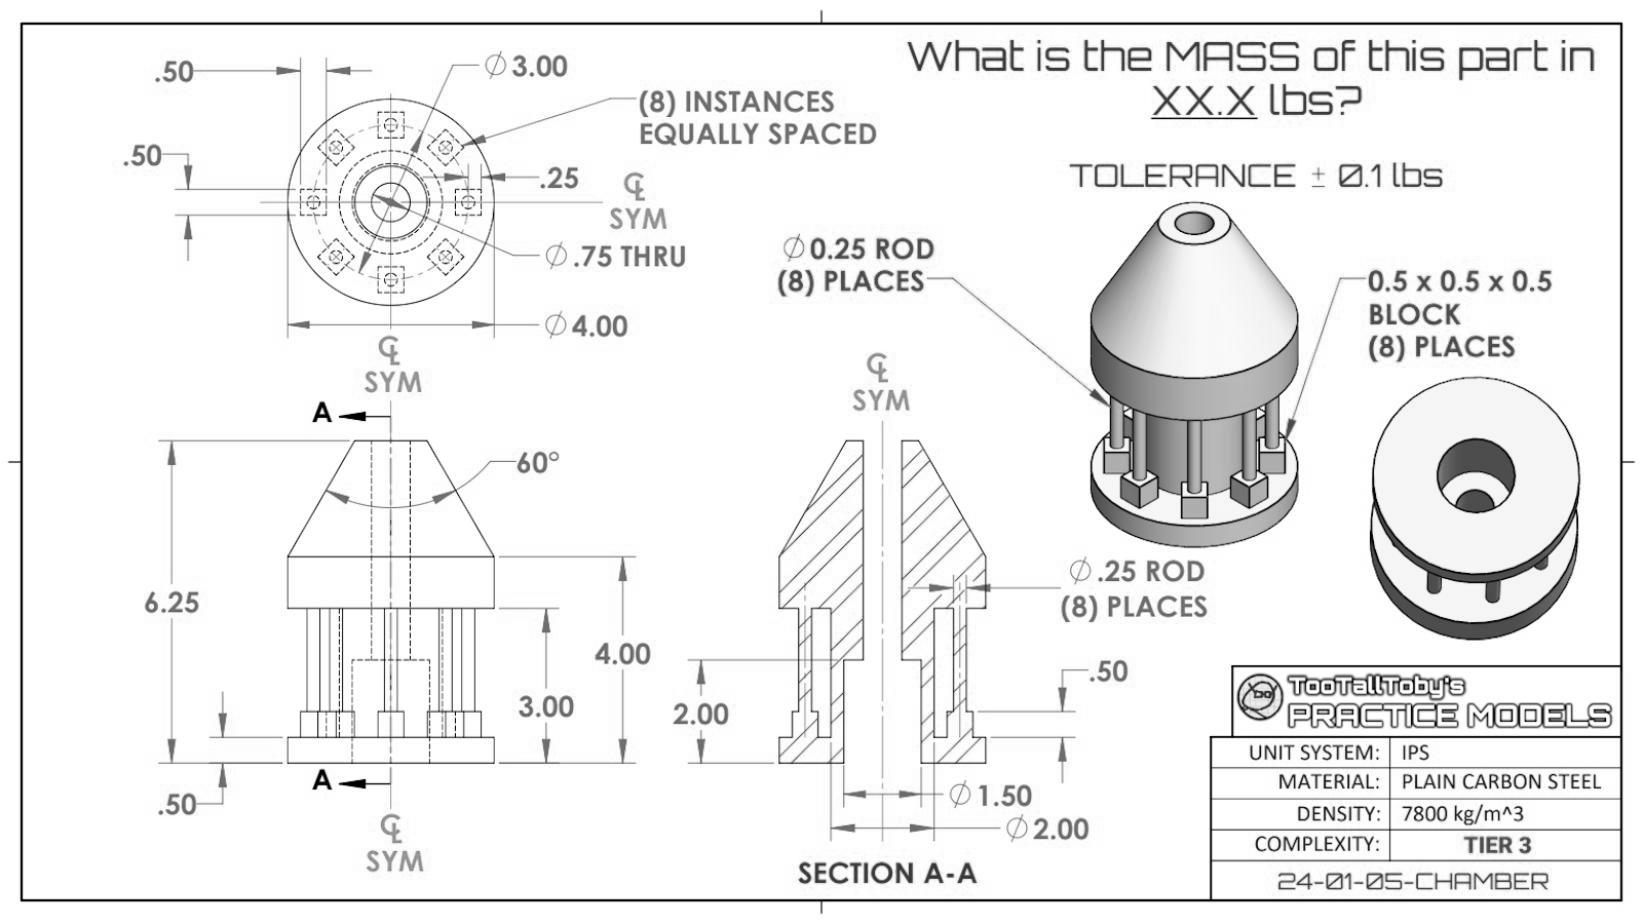-: (1308, 164, 1329, 193), (944, 869, 958, 881)
0: (1337, 162, 1364, 190), (146, 139, 163, 169), (714, 699, 731, 727), (636, 640, 654, 666), (1439, 268, 1457, 294), (697, 701, 714, 728), (1056, 816, 1073, 843), (532, 448, 548, 476), (535, 53, 552, 79), (1073, 816, 1089, 843), (596, 314, 613, 339), (1016, 783, 1033, 808), (809, 236, 827, 259), (1512, 268, 1528, 293), (559, 696, 577, 718), (553, 52, 568, 78), (543, 694, 558, 720), (1113, 660, 1128, 686), (619, 642, 635, 666), (1368, 268, 1384, 292), (613, 313, 628, 337), (182, 793, 197, 817), (179, 61, 194, 84), (1424, 804, 1436, 823), (1437, 806, 1447, 824)
1: (1371, 159, 1387, 189), (977, 783, 990, 808)
2: (671, 700, 691, 727), (1103, 559, 1121, 584), (1033, 815, 1049, 843), (547, 165, 564, 190), (167, 589, 183, 615), (836, 237, 850, 261)
3: (518, 694, 535, 720), (512, 54, 527, 80)
4: (593, 642, 611, 667), (572, 314, 587, 339)
5: (1464, 266, 1481, 297), (163, 791, 182, 816), (1536, 268, 1555, 293), (184, 588, 201, 615), (596, 244, 614, 269), (162, 58, 178, 85), (1121, 558, 1138, 583), (1097, 659, 1113, 685), (850, 235, 866, 261), (1393, 267, 1409, 293), (131, 142, 146, 168), (564, 165, 579, 189), (1002, 784, 1016, 808)
6: (142, 589, 161, 616), (516, 447, 532, 476)
7: (581, 244, 597, 270), (1399, 804, 1414, 823)
8: (1378, 333, 1396, 360), (787, 269, 806, 294), (649, 89, 666, 115), (1073, 594, 1088, 619), (1412, 803, 1425, 822)
A: (308, 397, 333, 426), (923, 859, 946, 884), (310, 768, 332, 792), (957, 862, 979, 885)
Block: (1367, 302, 1462, 328)
Coma: (537, 181, 548, 191), (153, 75, 162, 86), (1364, 180, 1372, 192), (1383, 283, 1391, 295), (160, 604, 167, 617), (992, 799, 1001, 809), (1456, 283, 1464, 294), (156, 807, 164, 817), (1216, 106, 1223, 117), (122, 159, 130, 168), (588, 330, 596, 339), (573, 259, 580, 269), (1089, 674, 1096, 684), (1097, 574, 1104, 584), (528, 71, 536, 79), (535, 711, 542, 720), (1051, 834, 1058, 842), (828, 253, 835, 261), (690, 718, 696, 727), (612, 659, 617, 668), (1529, 285, 1534, 293)
Degrees: (547, 447, 562, 463)
Density: (1296, 804, 1383, 826)
Diameter: (1067, 552, 1094, 587), (777, 231, 808, 261), (543, 237, 569, 271), (949, 777, 974, 810), (543, 308, 568, 340), (1004, 813, 1029, 843), (484, 48, 508, 79)
EquallySpaced: (639, 121, 879, 147)
IPS: (1400, 743, 1432, 763)
Instances: (684, 88, 837, 115)
Material: (1277, 772, 1383, 792)
Places: (1106, 593, 1208, 620), (821, 269, 926, 295), (1414, 333, 1519, 359)
PlainCarbonSteel: (1402, 772, 1605, 794)
Rod: (874, 234, 936, 261), (1145, 558, 1207, 583)
SYM: (362, 369, 426, 397), (365, 849, 427, 874), (608, 206, 669, 231), (852, 388, 912, 413)
Section: (797, 859, 916, 886)
Symmetry: (375, 334, 405, 367), (866, 350, 894, 384), (380, 811, 407, 846), (621, 169, 648, 203)
Thru: (619, 243, 688, 268)
UnitSystem: (1247, 741, 1381, 762)
X: (1226, 81, 1261, 117), (1149, 82, 1184, 116), (1184, 84, 1214, 116), (1487, 272, 1506, 295), (1416, 273, 1432, 296)
lbs: (1267, 81, 1334, 115), (1391, 159, 1450, 191)
